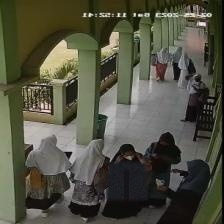Cadar_Niqab: (105, 142, 147, 199)
